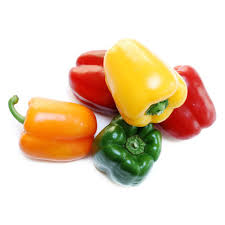bell pepper: (88, 99, 176, 195), (5, 89, 102, 169), (100, 37, 185, 123), (55, 37, 140, 113), (154, 53, 215, 138)
